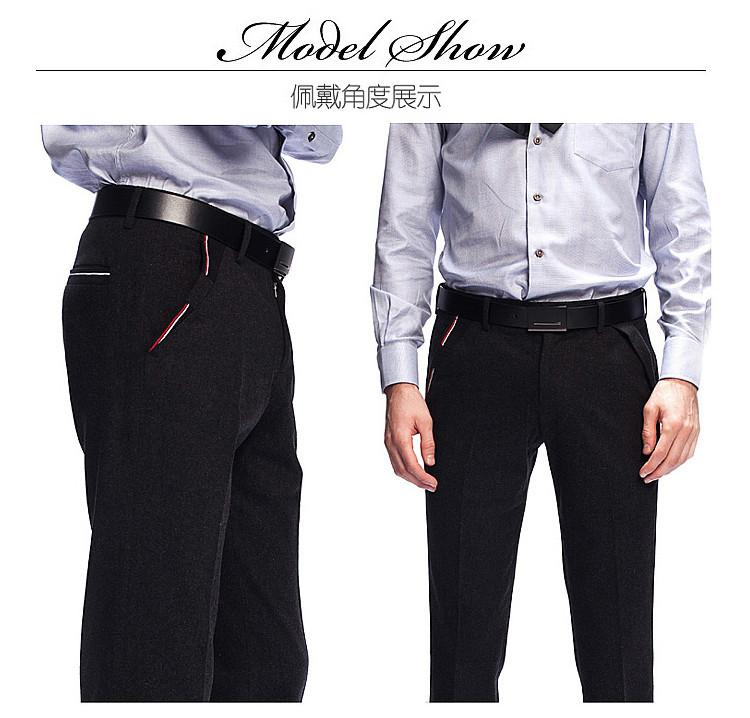F_belt: (79, 182, 311, 274), (430, 278, 657, 334)
F_dress pants: (68, 183, 319, 705), (416, 288, 662, 704)
